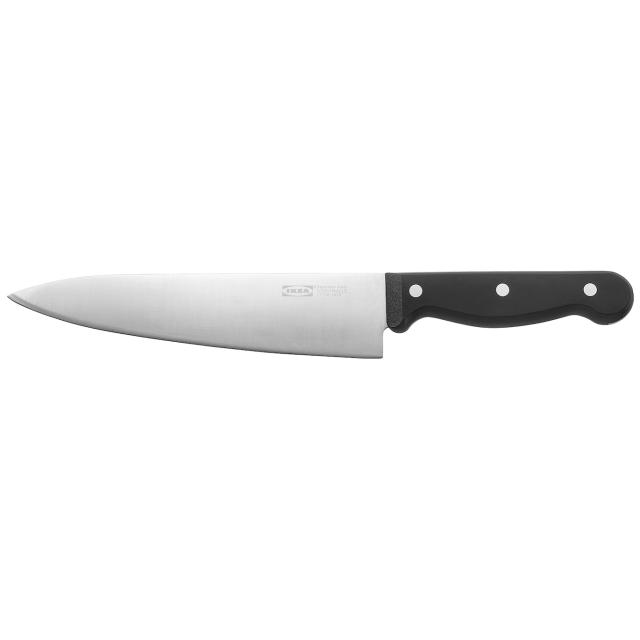Weapon: (10, 271, 633, 358)
